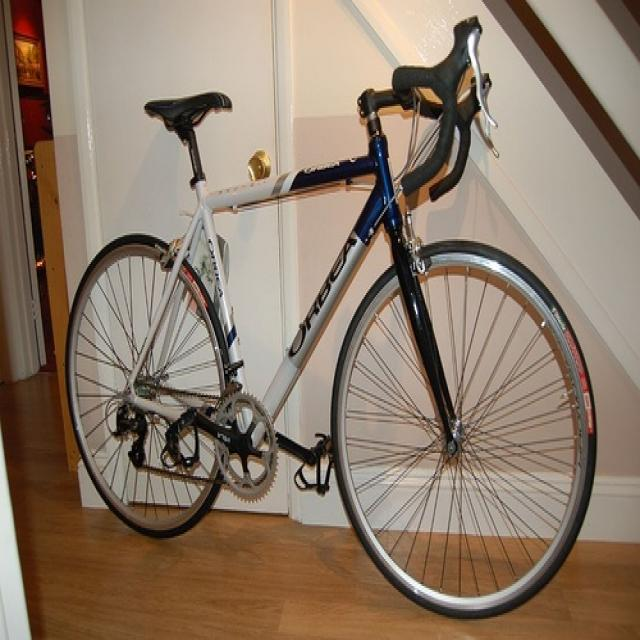bicycle: (65, 15, 599, 621)
